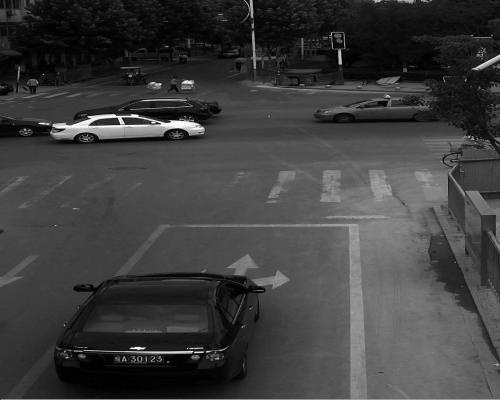Carplate: (110, 354, 167, 365)
